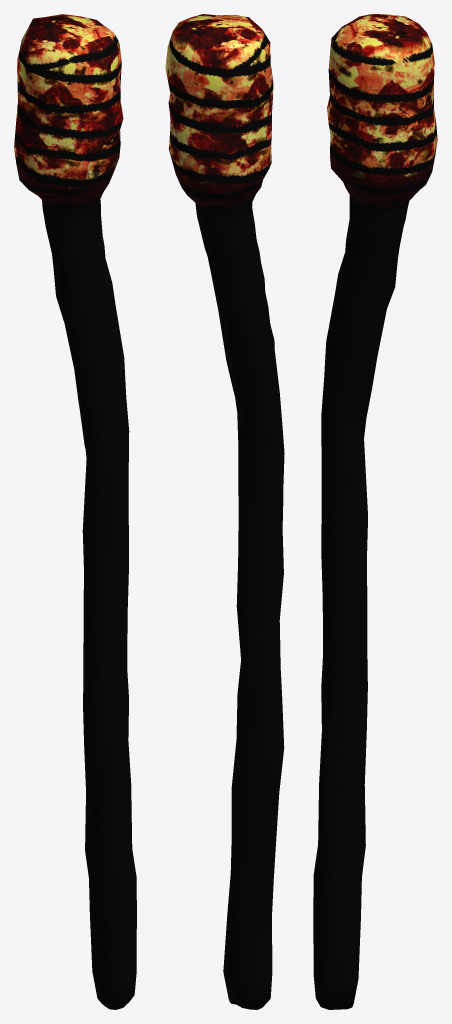
The model's file is torch.obj.
3 views of the same model, side by side, from view 1: azimuth 90°, elevation 25°; view 2: azimuth 150°, elevation 25°; view 3: azimuth 270°, elevation 25° (orthographic). The views are drawn at different scales.
Visible parts, largest first — view 1: torchstick_torchstick_0; view 2: torchstick_torchstick_0; view 3: torchstick_torchstick_0.
Boxes of the visible parts, x1,y1,x2,y2 form: torchstick_torchstick_0: (14, 14, 136, 1009); torchstick_torchstick_0: (165, 14, 284, 1009); torchstick_torchstick_0: (313, 14, 437, 1009).
Bounding box in the file's own units: 0.139 × 1.45 × 0.1664.
Materials: 1 (1 with a texture image).
